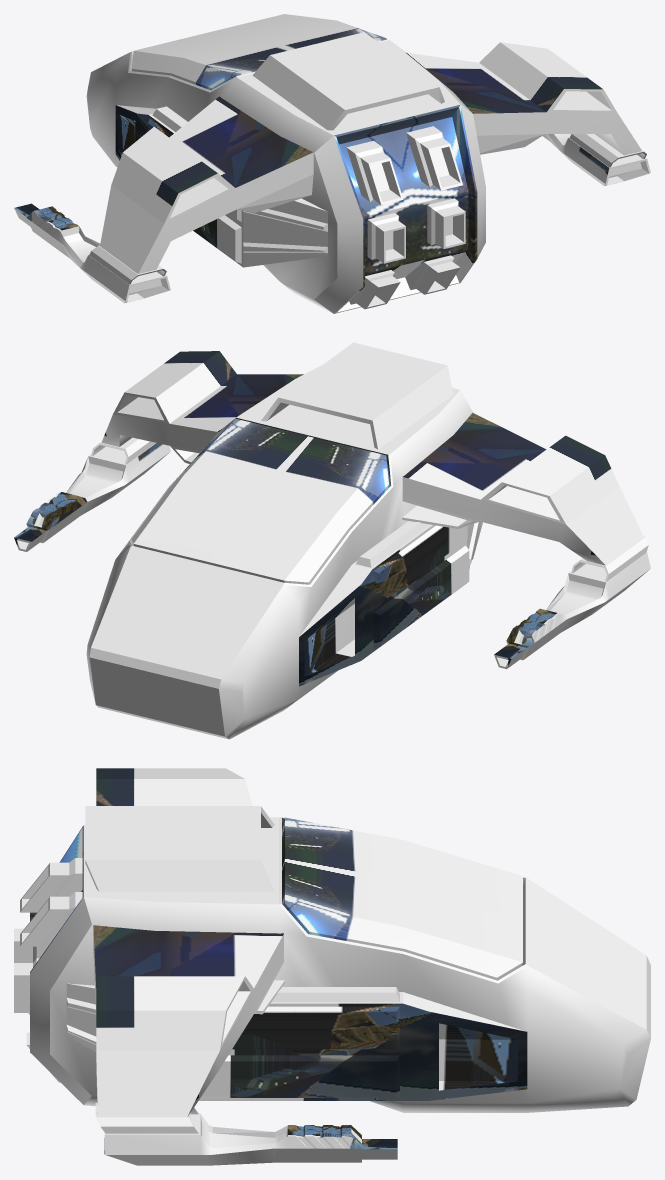
Rendered from drone_x.FBX.
3 views of the same model, one above another, from view 1: azimuth 30°, elevation 25°; view 2: azimuth 150°, elevation 25°; view 3: azimuth 270°, elevation 25° (orthographic). The views are drawn at different scales.
Visible parts, largest first — view 1: Box018; view 2: Box018; view 3: Box018.
Boxes of the visible parts, x1=… form: Box018: x1=14, y1=14, x2=650, y2=313; Box018: x1=14, y1=342, x2=650, y2=739; Box018: x1=14, y1=768, x2=650, y2=1165.
Size of the model in its own units: 288 by 105 by 259.
